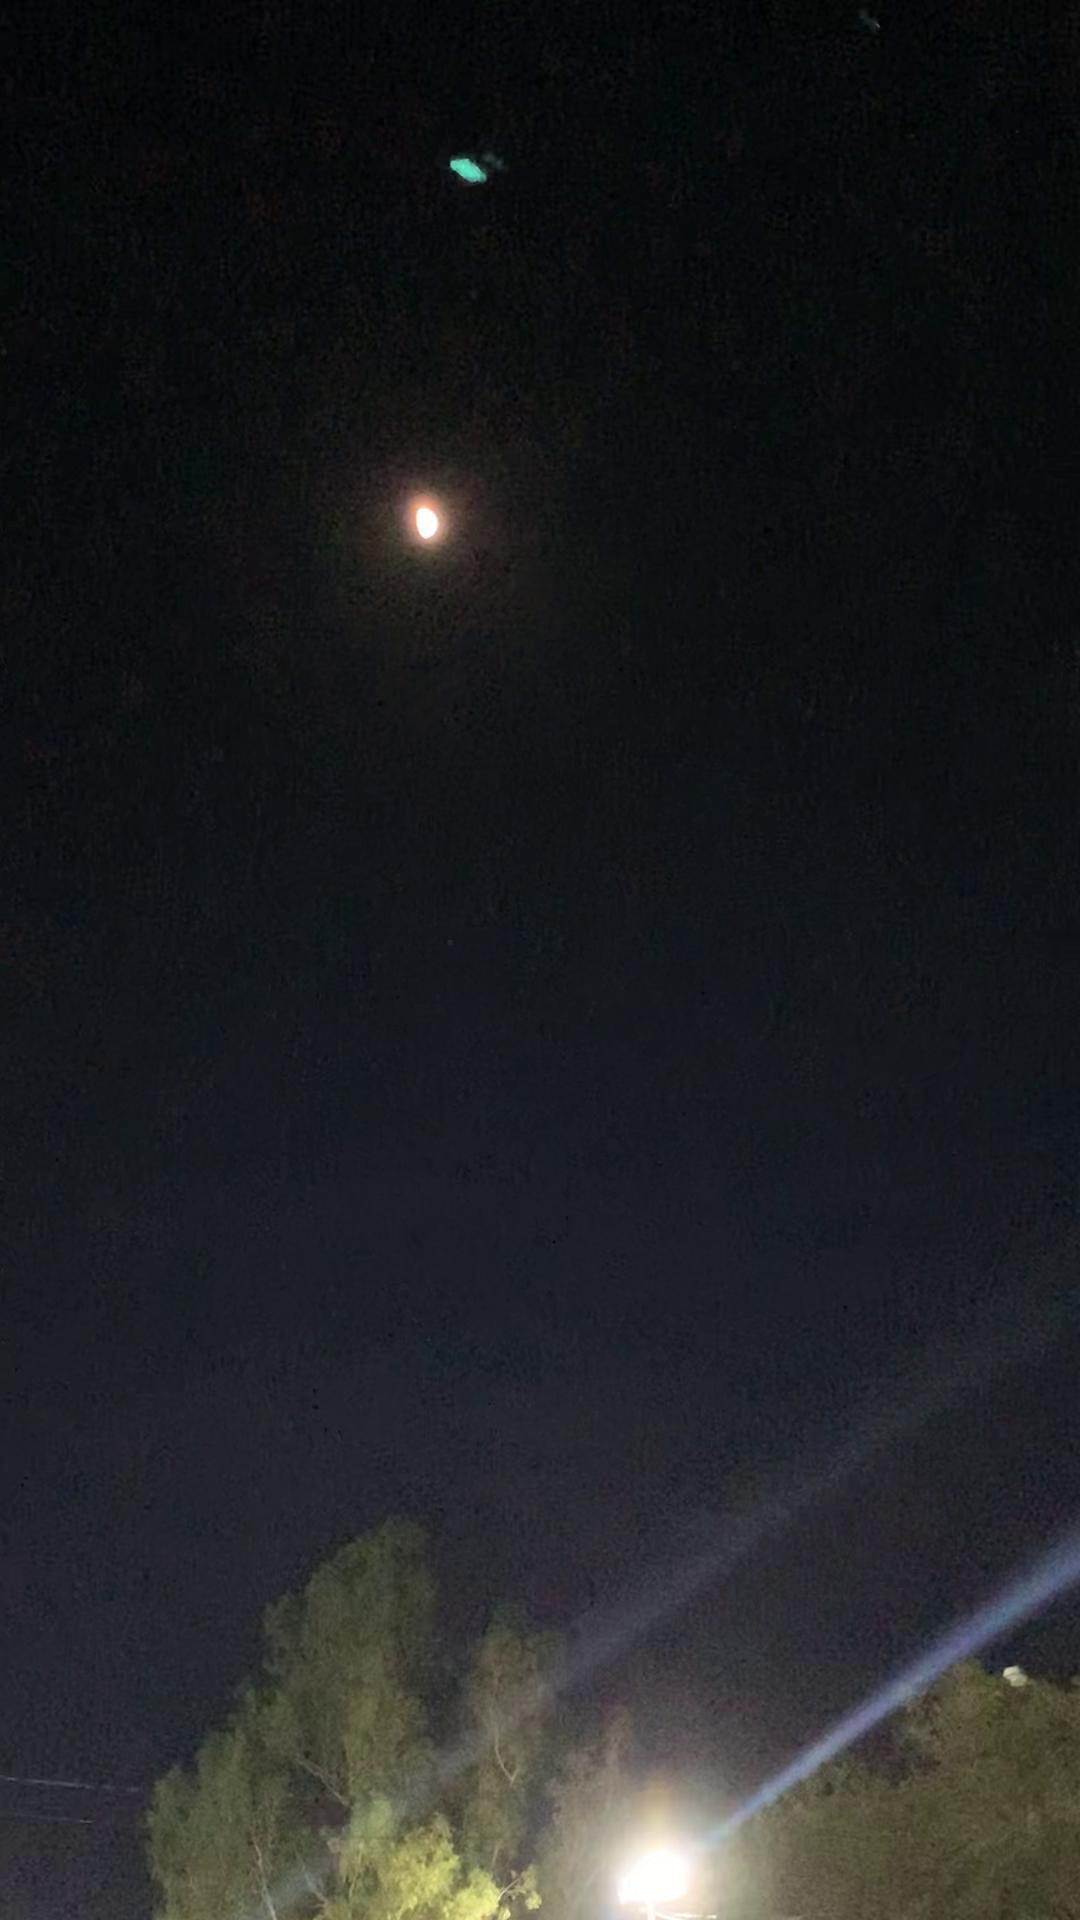moon: (392, 495, 468, 574)
